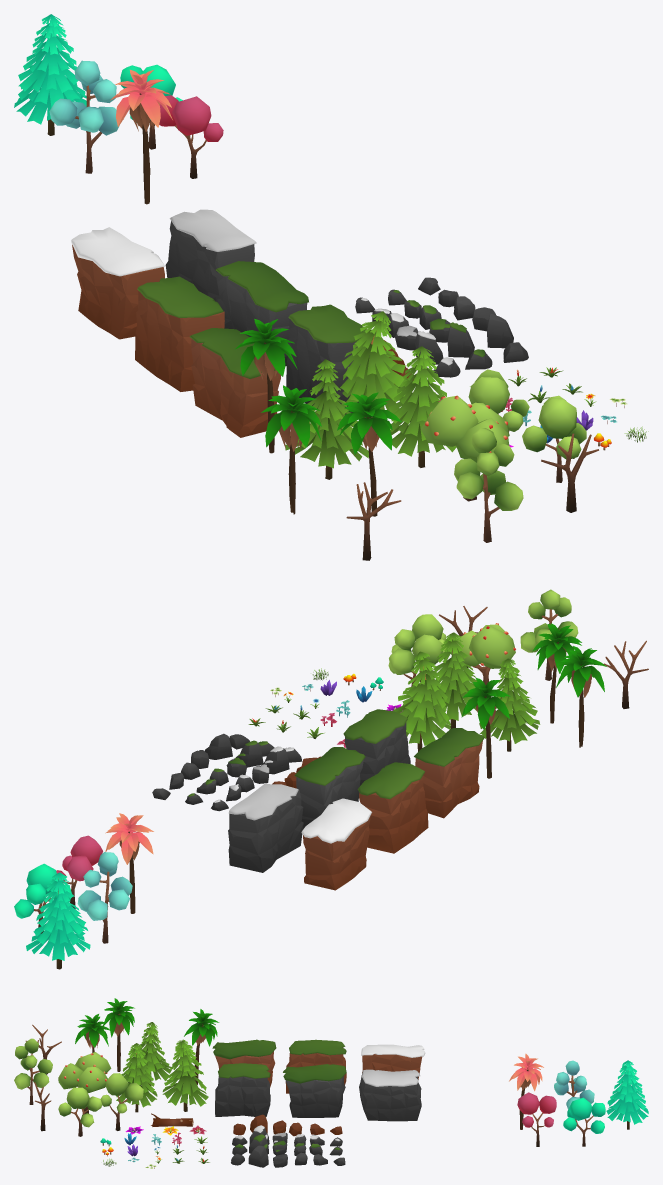
File: naturepack.glb
3 renders of one model, top to bottom at view 1: azimuth 30°, elevation 25°; view 2: azimuth 150°, elevation 25°; view 3: azimuth 270°, elevation 25°, orthographic. The views are drawn at different scales.
Parts seen in each view (by area): view 1: ClifGg2, ClifGi1, ClifGg3, ClifBi1, ClifBg1, ClifBg2, TreeVC, TreeV2, TreeV1, TreeR3, TreeV3, TreeRF (+12 smaller); view 2: ClifBi1, ClifGi1, ClifGg2, ClifGg3, ClifBg1, TreeV2, TreeVC, ClifBg2, TreeV3, TreeV1, TreeRC3, TreeRF (+10 smaller); view 3: ClifBi1, ClifBg1, ClifBg2, TreeV2, TreeVC, ClifGi1, ClifGg3, TreeRF, ClifGg2, TreeV1, TreeR3, TreeRC1 (+11 smaller).
Part boxes in pixels (x1,y1,x2,y2): ClifGg2: (135, 276, 224, 391); ClifGi1: (71, 227, 164, 339); ClifGg3: (189, 328, 280, 437); ClifBi1: (165, 209, 256, 302); ClifBg1: (216, 261, 308, 366); ClifBg2: (286, 304, 371, 414); TreeVC: (14, 14, 90, 135); TreeV2: (340, 311, 411, 434); TreeV1: (389, 346, 456, 467); TreeR3: (454, 428, 523, 542); TreeV3: (285, 359, 368, 479); TreeRF: (421, 395, 509, 501); ClifBi1: (228, 784, 303, 872); ClifGi1: (301, 798, 371, 890); ClifGg2: (357, 762, 428, 853); ClifGg3: (414, 728, 484, 818); ClifBg1: (294, 747, 365, 829); TreeV2: (393, 651, 450, 751); TreeVC: (26, 872, 90, 969); ClifBg2: (343, 709, 410, 785); TreeV3: (479, 658, 540, 751); TreeV1: (433, 632, 477, 728); TreeRC3: (77, 852, 132, 943); TreeRF: (450, 623, 515, 697); ClifBi1: (359, 1069, 421, 1121); ClifBg1: (283, 1064, 346, 1117); ClifBg2: (215, 1063, 270, 1116); TreeV2: (162, 1039, 208, 1111); TreeVC: (606, 1060, 648, 1129); ClifGi1: (361, 1044, 425, 1079); ClifGg3: (212, 1039, 276, 1087); TreeRF: (58, 1052, 111, 1113); ClifGg2: (285, 1039, 346, 1093); TreeV1: (116, 1043, 157, 1112); TreeR3: (14, 1038, 52, 1104); TreeRC1: (563, 1097, 605, 1146).
Bounding box in the file's own units: 3651 × 1157 × 9075.
1 material, 1 textured.
